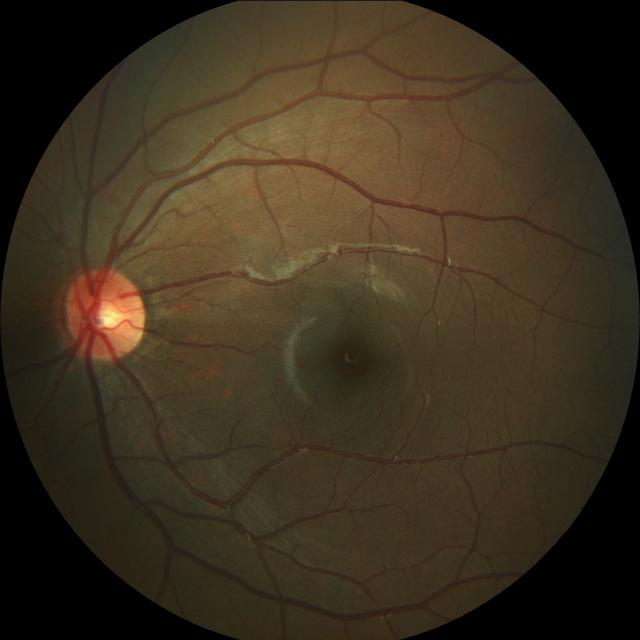OC: (84, 288, 127, 333)
OD: (62, 265, 145, 360)
